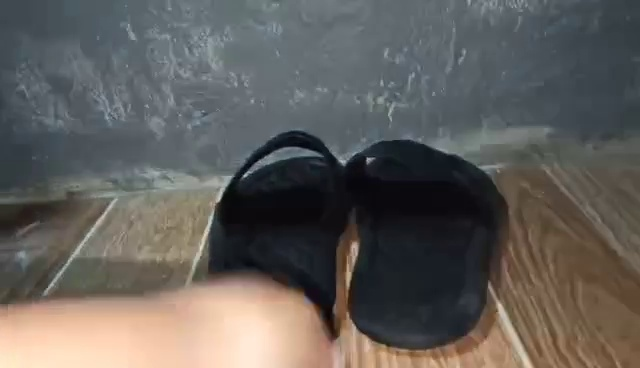slipper: (343, 136, 506, 348), (213, 131, 351, 350)
